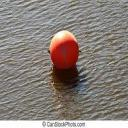red: (49, 31, 79, 70)
